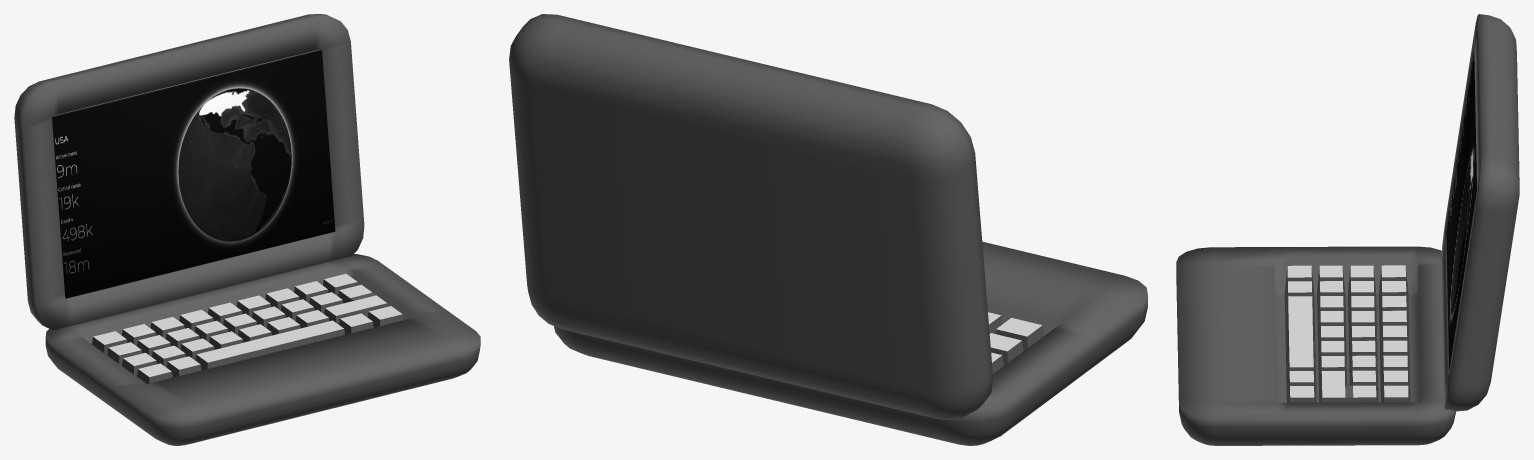
Rendered from covid-laptop.glb.
The picture shows the model from 3 angles, left to right: view 1: azimuth 30°, elevation 25°; view 2: azimuth 150°, elevation 25°; view 3: azimuth 270°, elevation 25°; orthographic projection. The views are drawn at different scales.
Visible parts, largest first — view 1: Plane.002; view 2: Plane.002; view 3: Plane.002.
Boxes of the visible parts, x1,y1,x2,y2 form: Plane.002: [14, 14, 480, 445]; Plane.002: [509, 14, 1147, 445]; Plane.002: [1176, 14, 1519, 445].
Bounding box in the file's own units: 6.21 × 4.76 × 5.25.
Materials: 3 (1 with a texture image).
